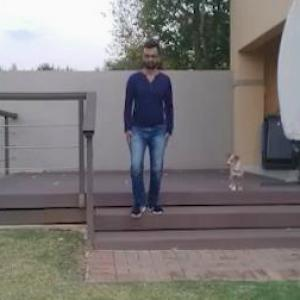follow: (119, 37, 167, 226)
